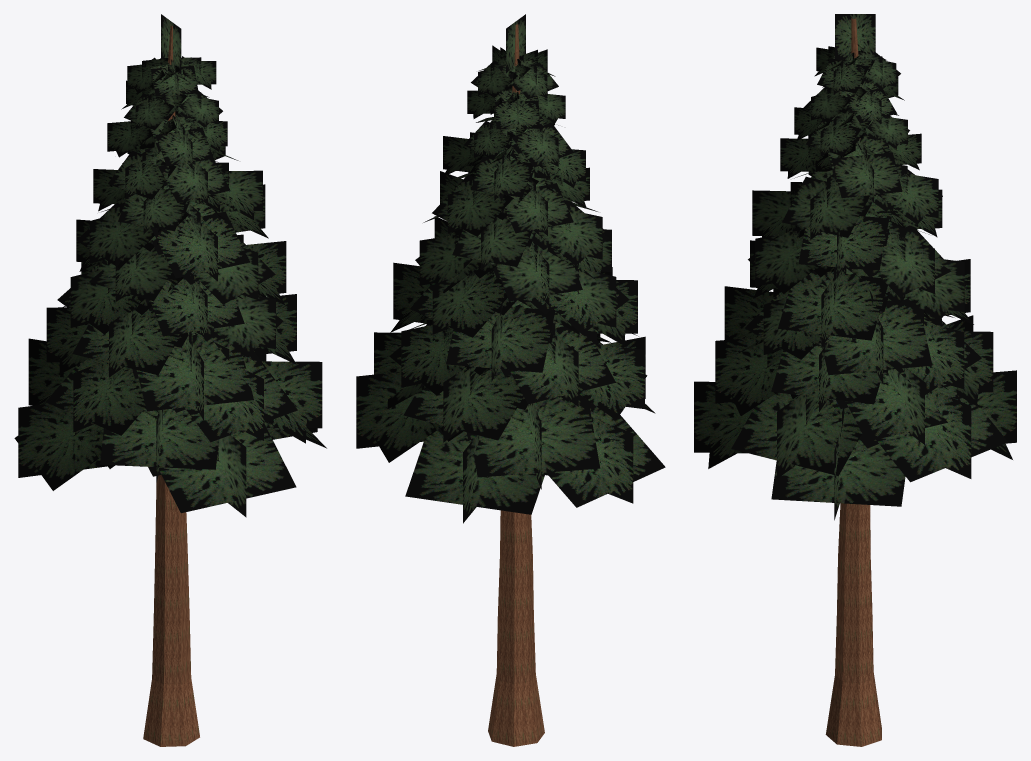
The model's file is Pine_Giant_2_LOD1.gltf.
The picture shows the model from 3 angles, left to right: view 1: azimuth 30°, elevation 25°; view 2: azimuth 150°, elevation 25°; view 3: azimuth 270°, elevation 25°; orthographic projection.
Parts seen in each view (by area): view 1: Pine_Giant_2_LOD1; view 2: Pine_Giant_2_LOD1; view 3: Pine_Giant_2_LOD1.
Part boxes in pixels (<box>): Pine_Giant_2_LOD1: <box>14,14,326,746</box>; Pine_Giant_2_LOD1: <box>356,14,665,746</box>; Pine_Giant_2_LOD1: <box>694,14,1016,746</box>.
Bounding box in the file's own units: 17.28 × 43.48 × 17.65.
2 materials, 2 textured.
